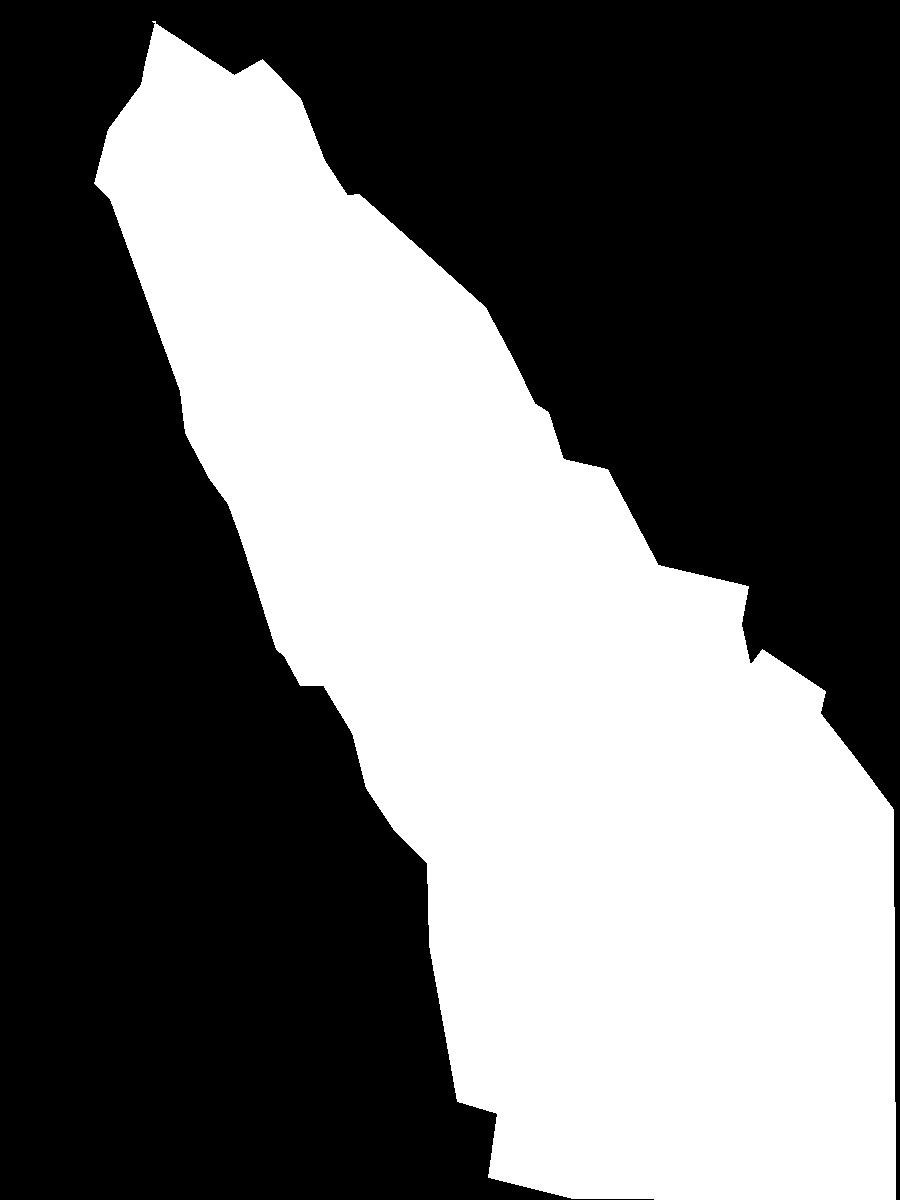Fire: (69, 27, 732, 704)
